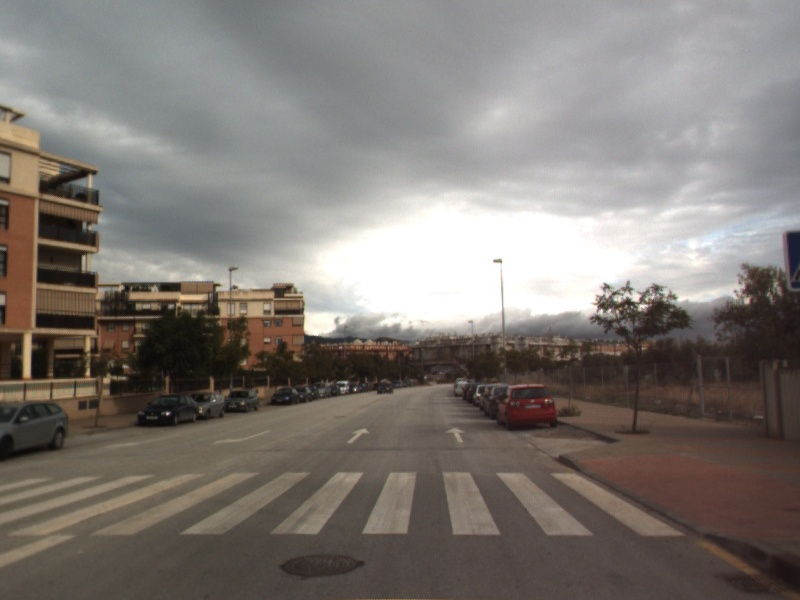STRAIGHT: (345, 426, 372, 445), (443, 425, 468, 444)
